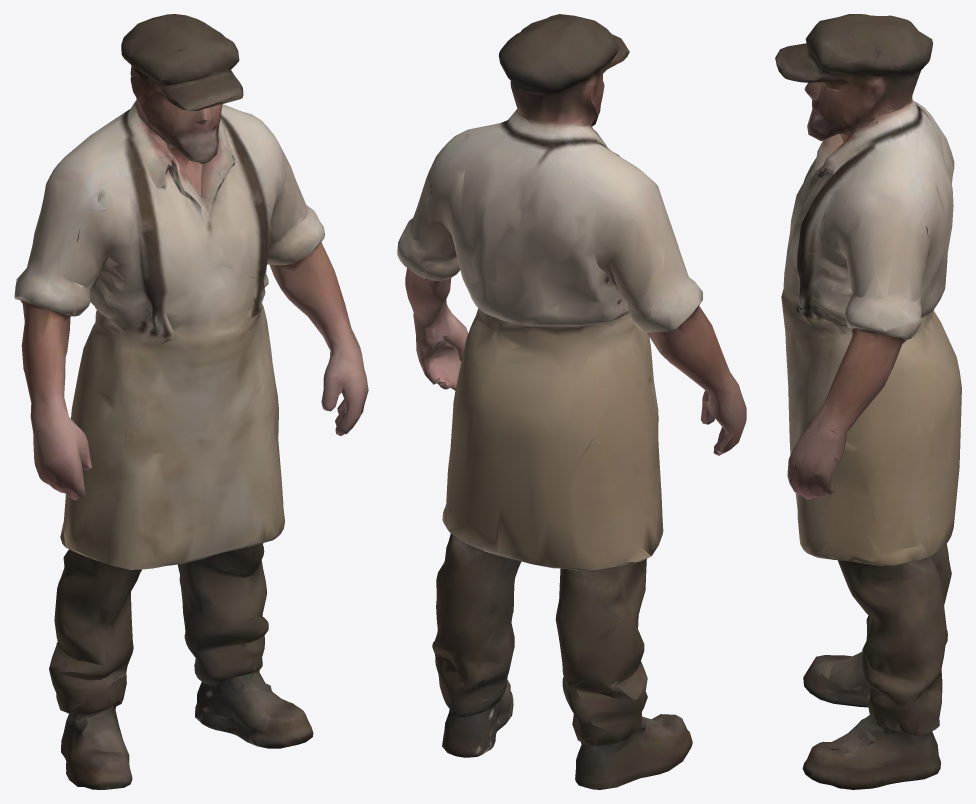
File: miller.phone.glb
The picture shows the model from 3 angles, left to right: view 1: azimuth 30°, elevation 25°; view 2: azimuth 150°, elevation 25°; view 3: azimuth 270°, elevation 25°; orthographic projection.
Visible parts, largest first — view 1: miller; view 2: miller; view 3: miller.
Part boxes in pixels (box(x1,y1,x2,y2)): miller: box(14, 14, 368, 789); miller: box(397, 14, 746, 789); miller: box(775, 14, 961, 789).
Size of the model in its own units: 0.8479 by 1.8 by 0.4241.
Materials: 1 (1 with a texture image).
